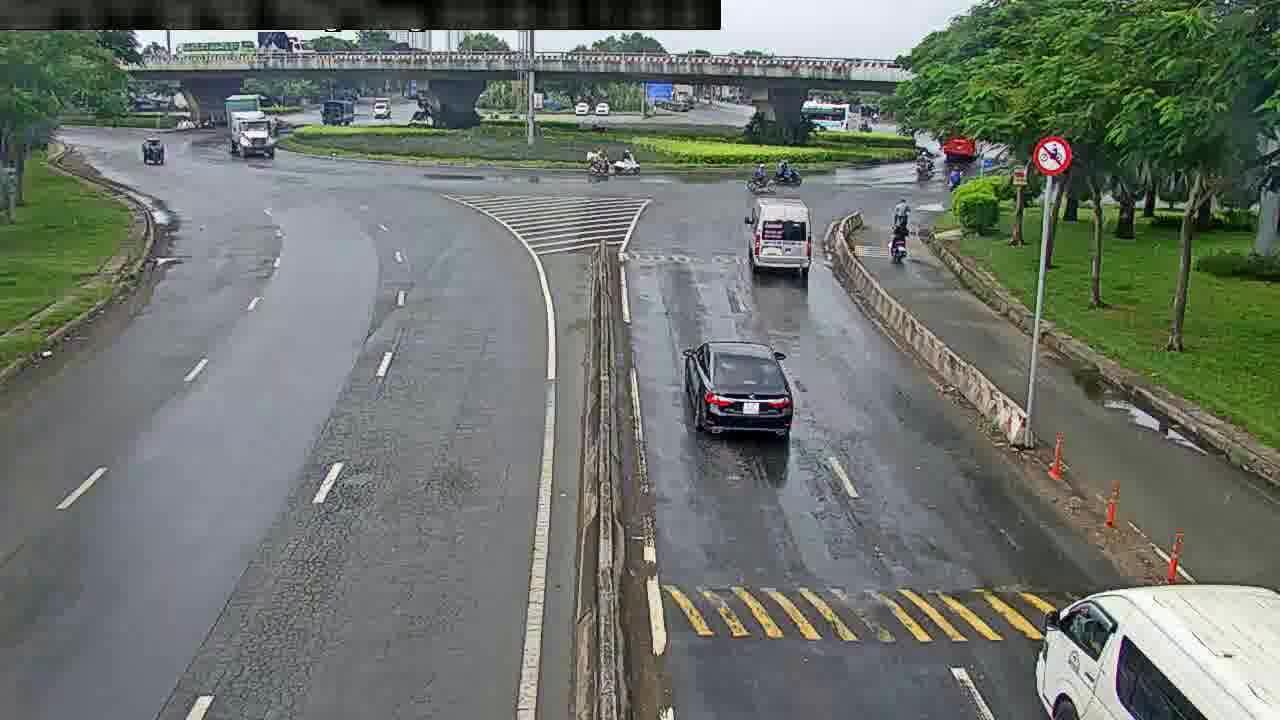14: (742, 192, 811, 283)
8: (226, 89, 276, 162)
container: (682, 339, 793, 447)
motorbike: (771, 160, 811, 185), (888, 218, 909, 264), (584, 144, 613, 176), (885, 195, 911, 229), (746, 166, 775, 192), (620, 148, 644, 174)
